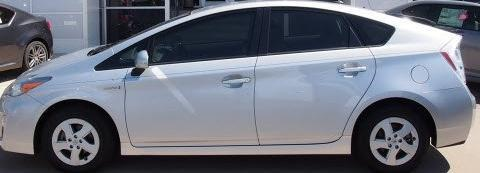Cars: (1, 3, 476, 173)
